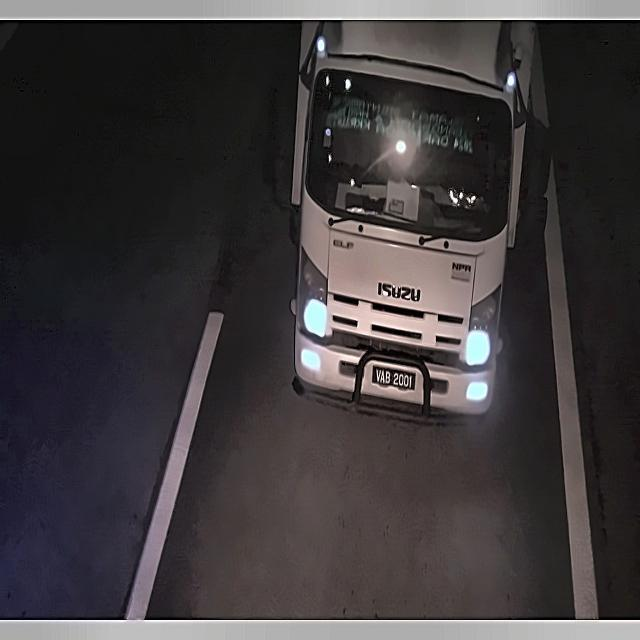car: (366, 359, 420, 403)
